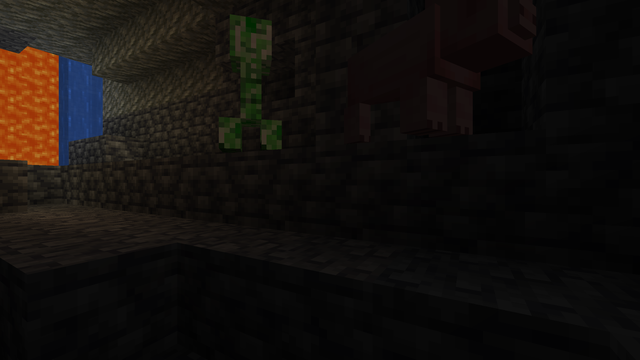cochons: (343, 7, 462, 144)
creepers: (216, 2, 282, 154)
